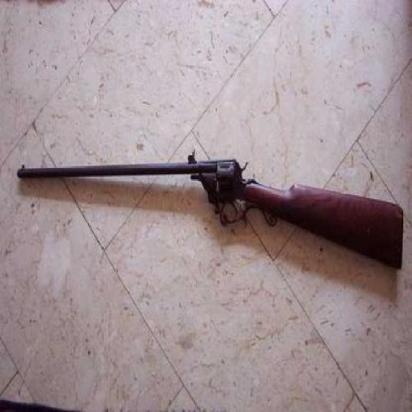Gun: (17, 158, 404, 273)
